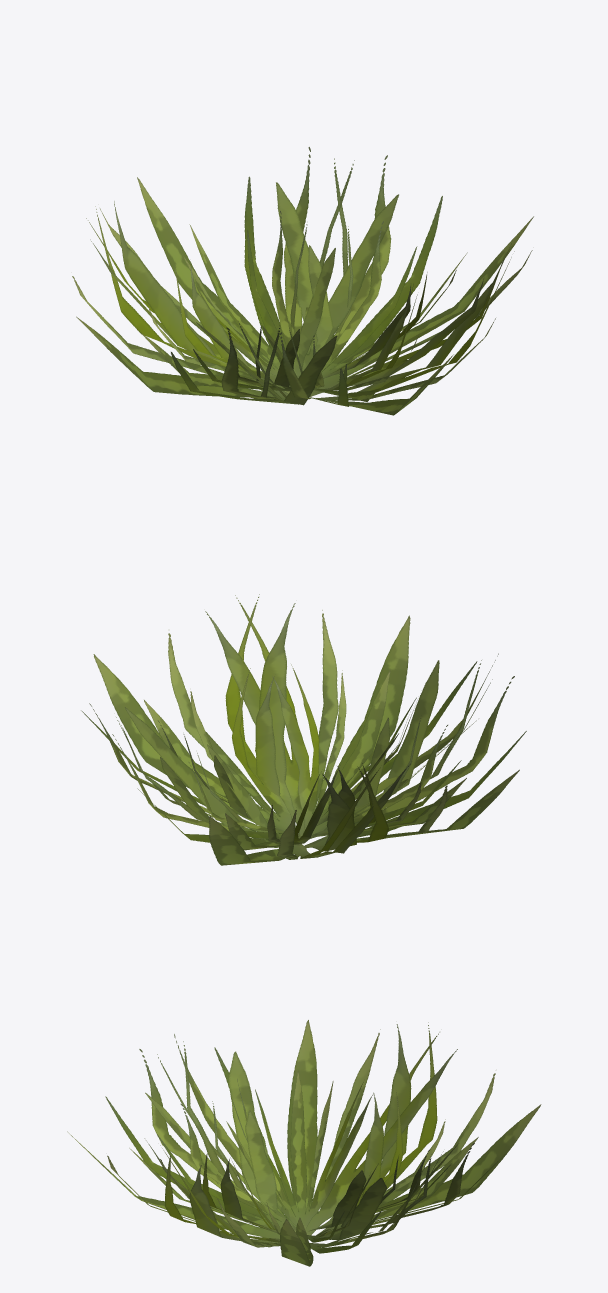
3 renders of one model, top to bottom at view 1: azimuth 30°, elevation 25°; view 2: azimuth 150°, elevation 25°; view 3: azimuth 270°, elevation 25°, orthographic. The views are drawn at different scales.
Parts seen in each view (by area): view 1: Plane.063; view 2: Plane.063; view 3: Plane.063.
Part boxes in pixels (x1,y1,x2,y2): Plane.063: (72,147,533,415); Plane.063: (81,594,526,865); Plane.063: (67,1020,541,1266).
Bounding box in the file's own units: 222 × 109 × 226.
